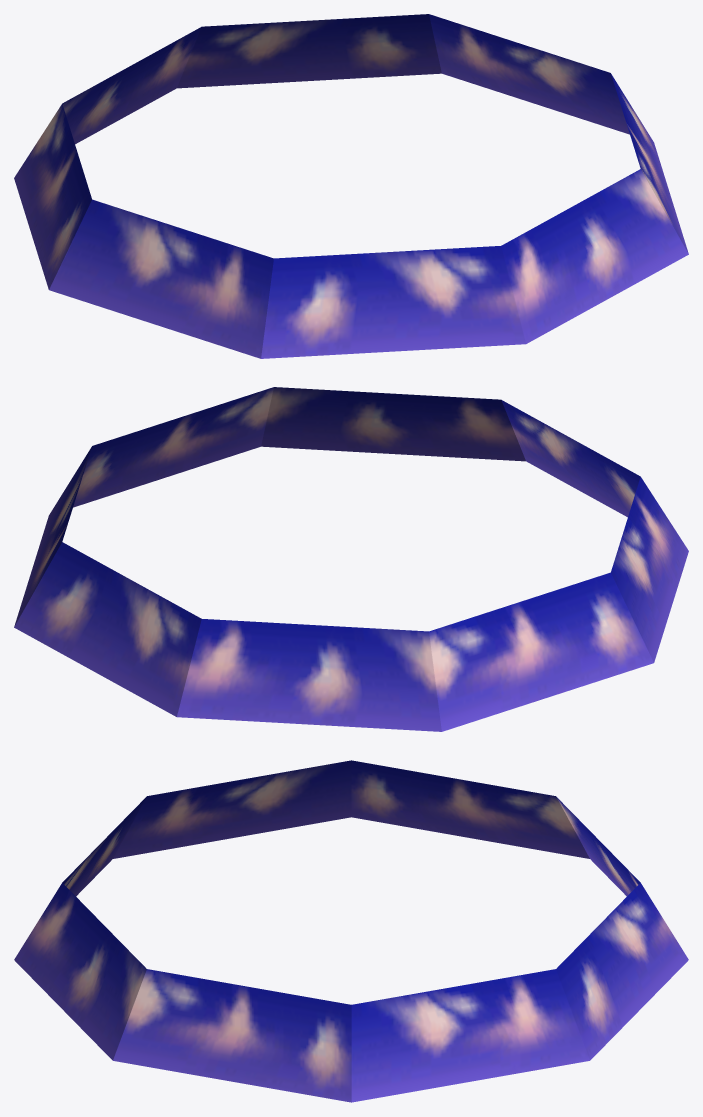
File: skybox2Shape.obj
The picture shows the model from 3 angles, top to bottom: view 1: azimuth 30°, elevation 25°; view 2: azimuth 150°, elevation 25°; view 3: azimuth 270°, elevation 25°; orthographic projection. The views are drawn at different scales.
Visible parts, largest first — view 1: skybox2Shape; view 2: skybox2Shape; view 3: skybox2Shape.
Boxes of the visible parts, bbox=[...] form: skybox2Shape: bbox=[14, 14, 688, 358]; skybox2Shape: bbox=[14, 387, 688, 731]; skybox2Shape: bbox=[14, 760, 688, 1102].
Bounding box in the file's own units: 1467 × 186 × 1467.
1 material, 1 textured.
